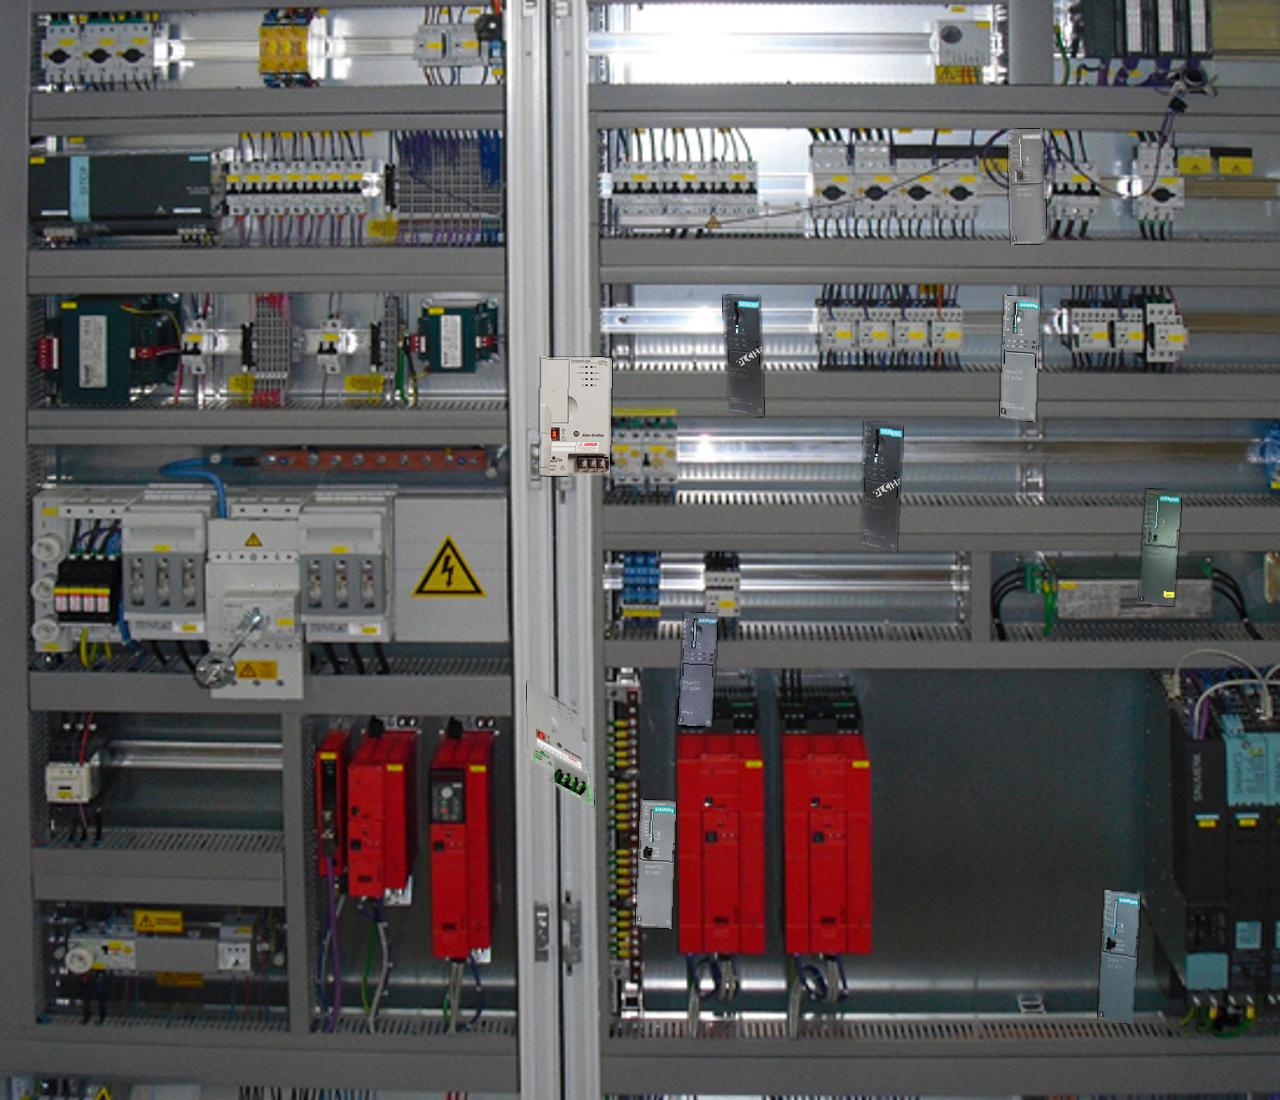AllenBradley: (540, 357, 611, 475), (527, 682, 593, 805)
Siemens: (1098, 890, 1139, 1023), (636, 799, 675, 928), (1139, 489, 1181, 605), (1008, 128, 1046, 244)
